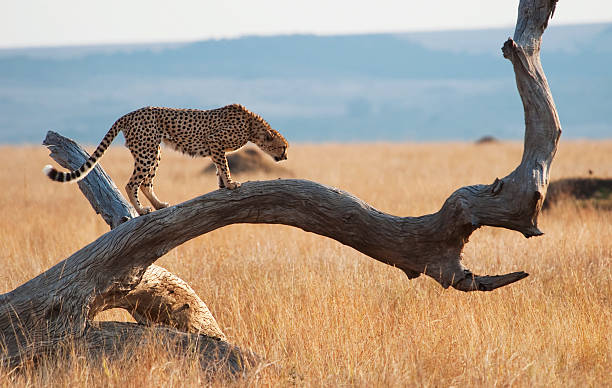cheetah: (256, 118, 296, 166)
